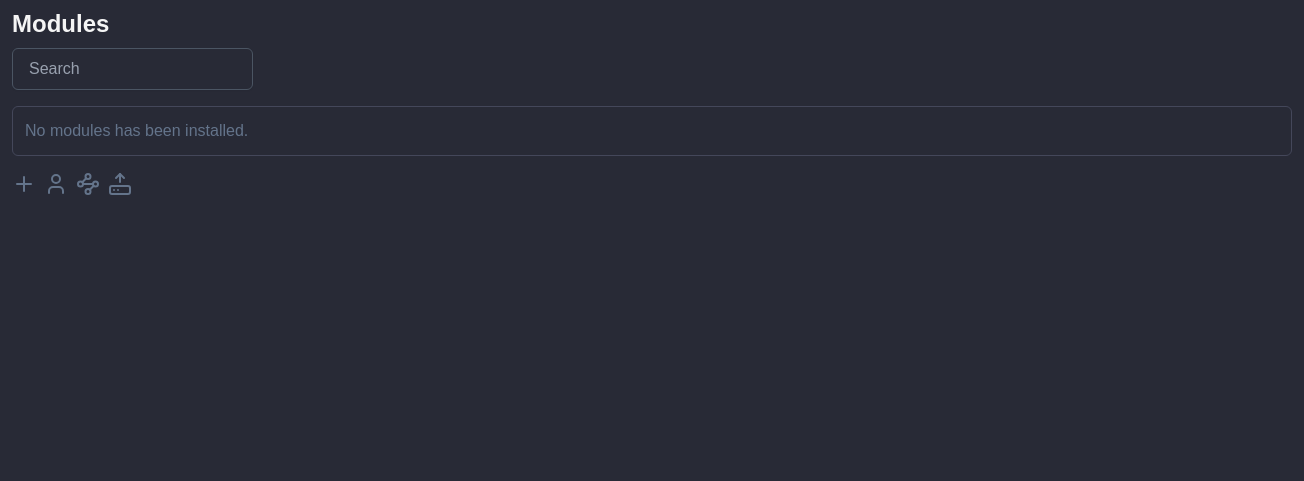
Scenario: adds exactly one module with the edited name only after confirmation
The image size is (1304, 481).
Step 1. Click the 1st button → (24,184), box [12, 172, 36, 196]
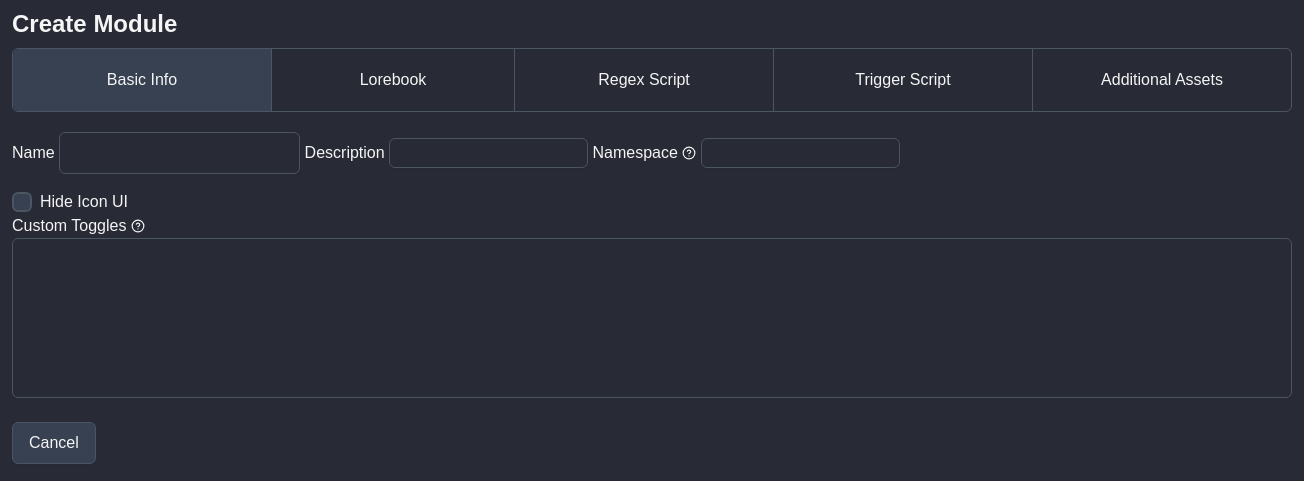
Now the heading "Create Module" is shown, box [12, 10, 177, 37]
Step 2. Type "My new module" into the 1st field → (180,153), box [59, 132, 300, 174]
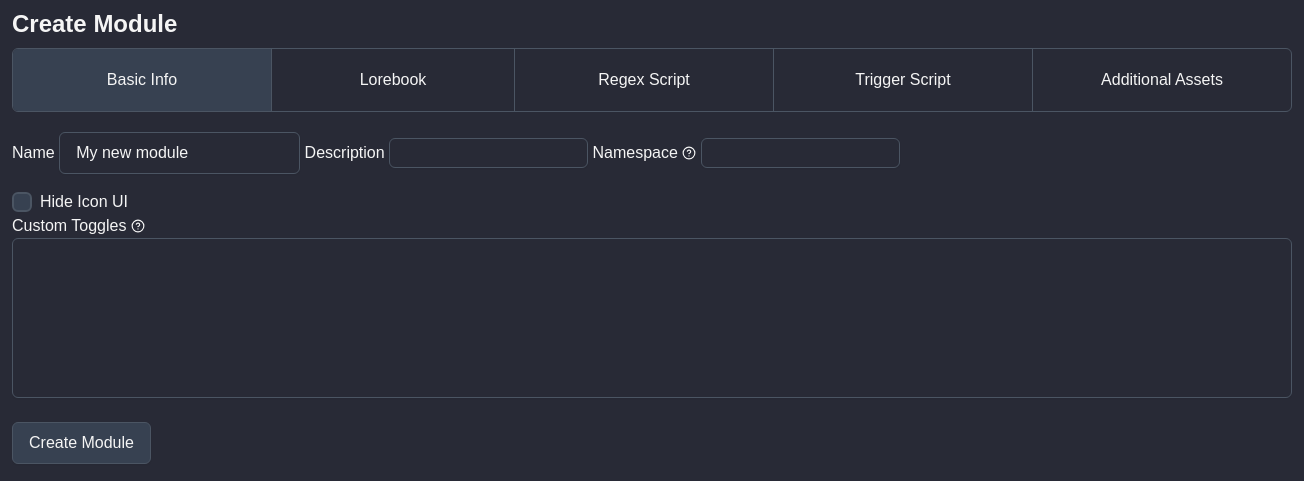
Now the button with class "mt-6" reads "Create Module"
Step 3. Click the button with class "mt-6" → (82,443), box [12, 422, 151, 464]
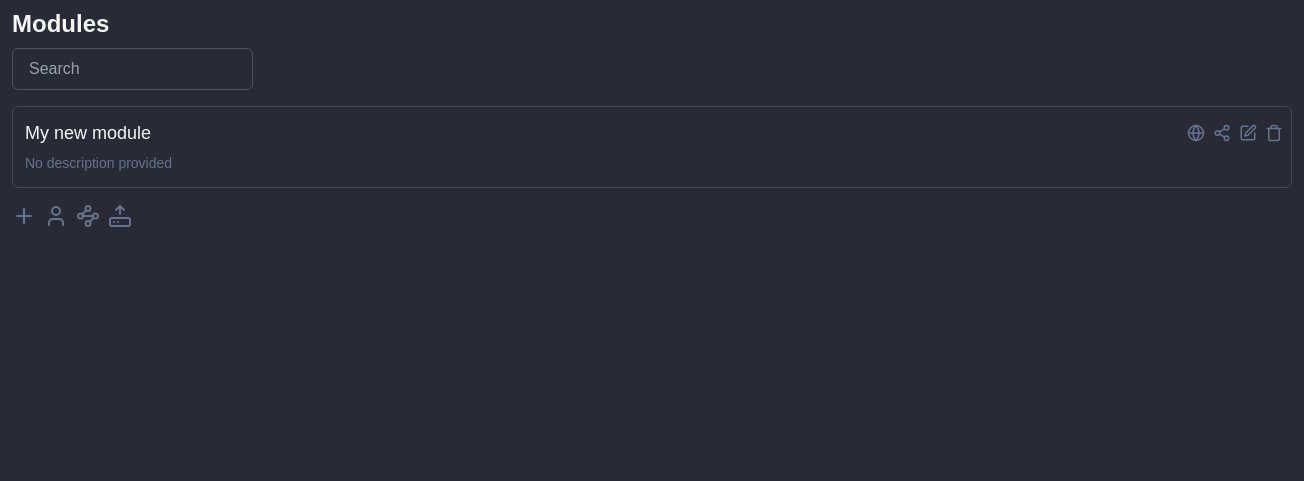
Now the text "My new module" is shown, box [25, 119, 151, 147]
Now the heading "Modules" is shown, box [12, 10, 109, 37]
